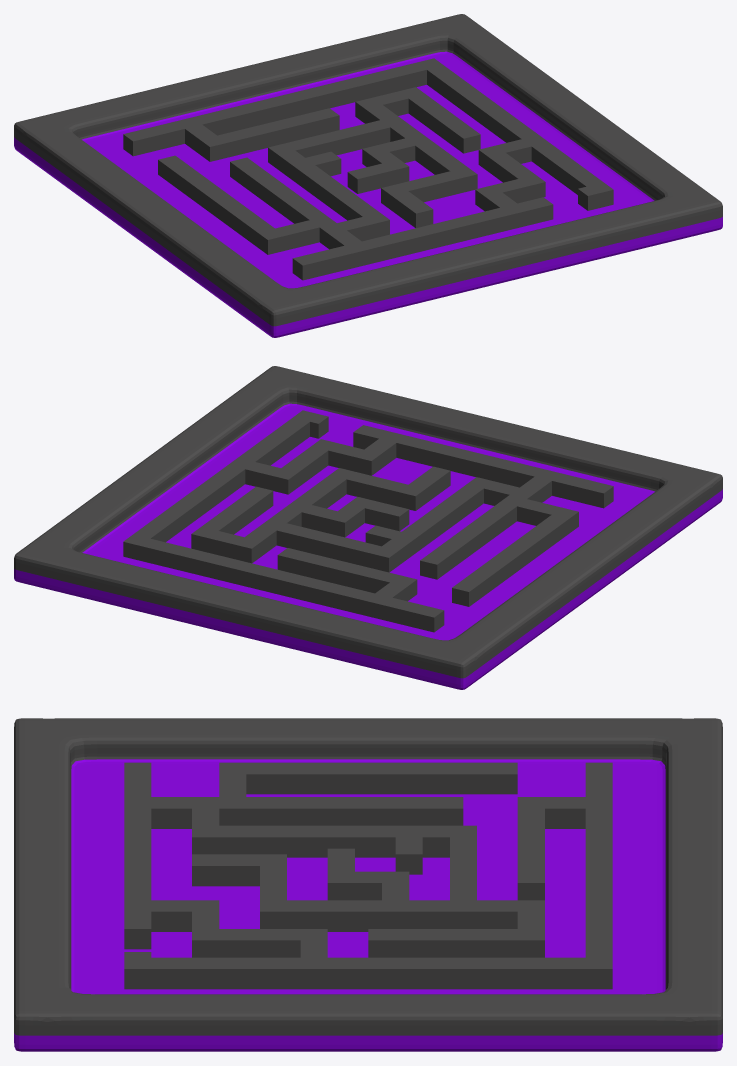
Rendered from лабиринт 5.fbx.
3 renders of one model, top to bottom at view 1: azimuth 30°, elevation 25°; view 2: azimuth 150°, elevation 25°; view 3: azimuth 270°, elevation 25°, orthographic. The views are drawn at different scales.
Visible parts, largest first — view 1: Куб; view 2: Куб; view 3: Куб.
Part boxes in pixels (<box>): Куб: <box>14,14,722,337</box>; Куб: <box>14,366,722,689</box>; Куб: <box>14,718,722,1051</box>.
Size of the model in its own units: 20230 by 1202 by 20230.
